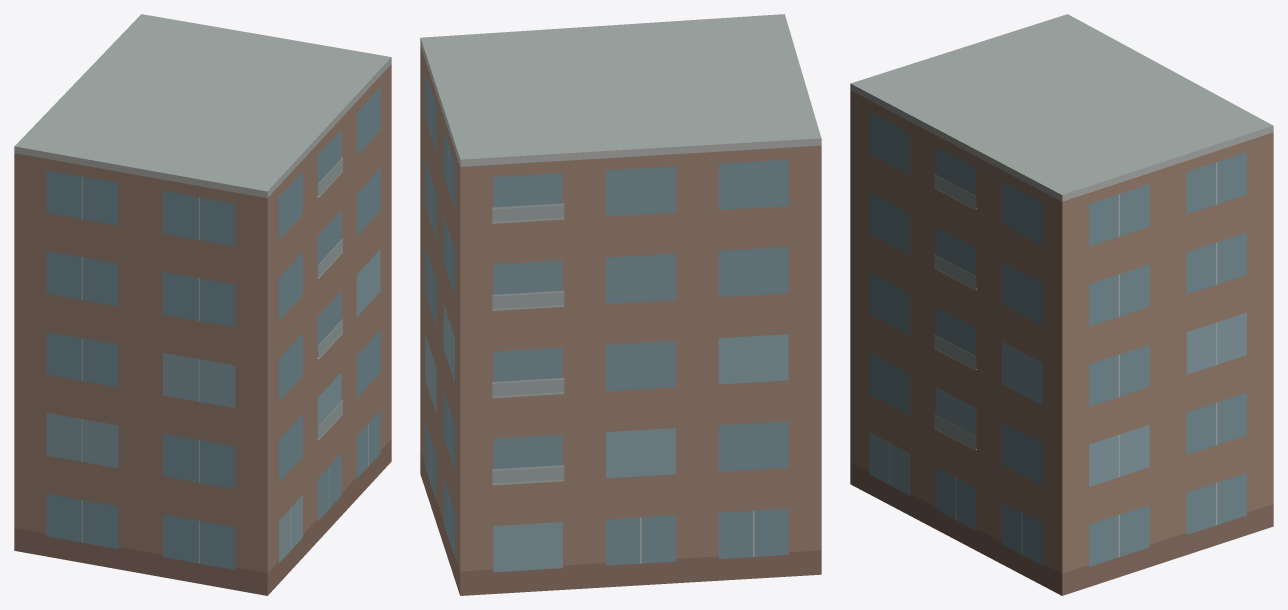
The model's file is survey-upis-32680063.glb.
The picture shows the model from 3 angles, left to right: view 1: azimuth 30°, elevation 25°; view 2: azimuth 150°, elevation 25°; view 3: azimuth 270°, elevation 25°; orthographic projection. The views are drawn at different scales.
Visible parts, largest first — view 1: survey-upis-32680063.tmp; view 2: survey-upis-32680063.tmp; view 3: survey-upis-32680063.tmp.
Boxes of the visible parts, x1,y1,x2,y2 form: survey-upis-32680063.tmp: [14, 14, 391, 595]; survey-upis-32680063.tmp: [420, 14, 821, 595]; survey-upis-32680063.tmp: [850, 14, 1273, 595].
Size of the model in its own units: 14.26 by 14.7 by 14.08.
